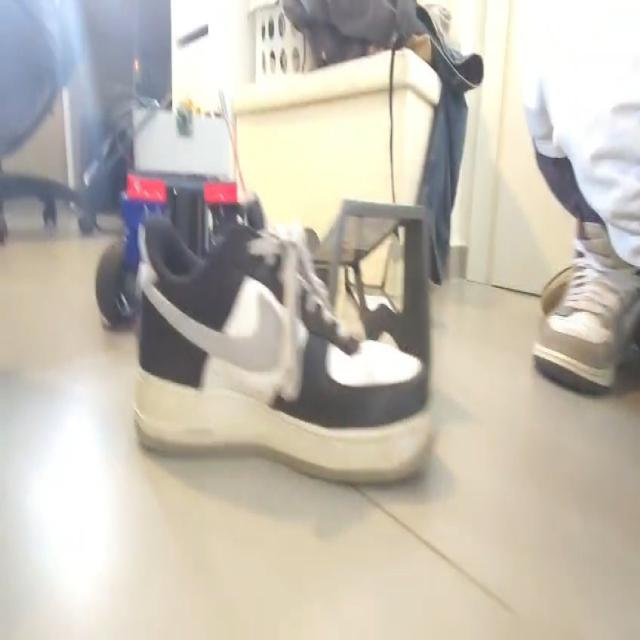Robot: (95, 98, 266, 330)
